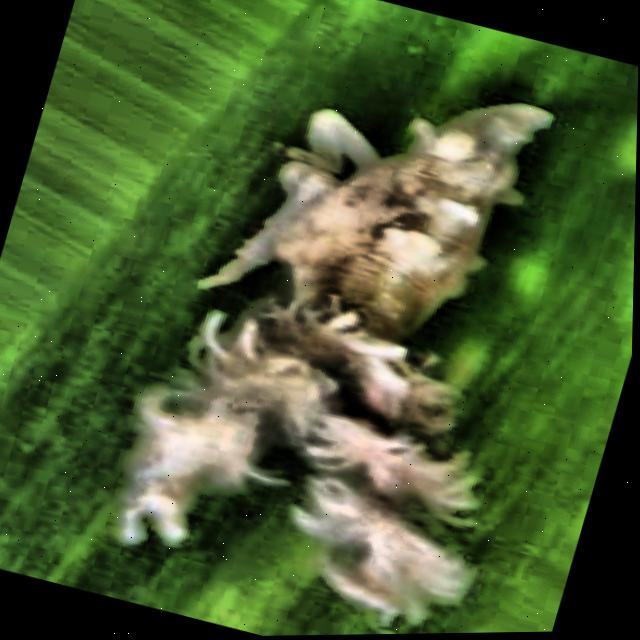Pyrilla-perpusilla: (51, 0, 640, 639)
